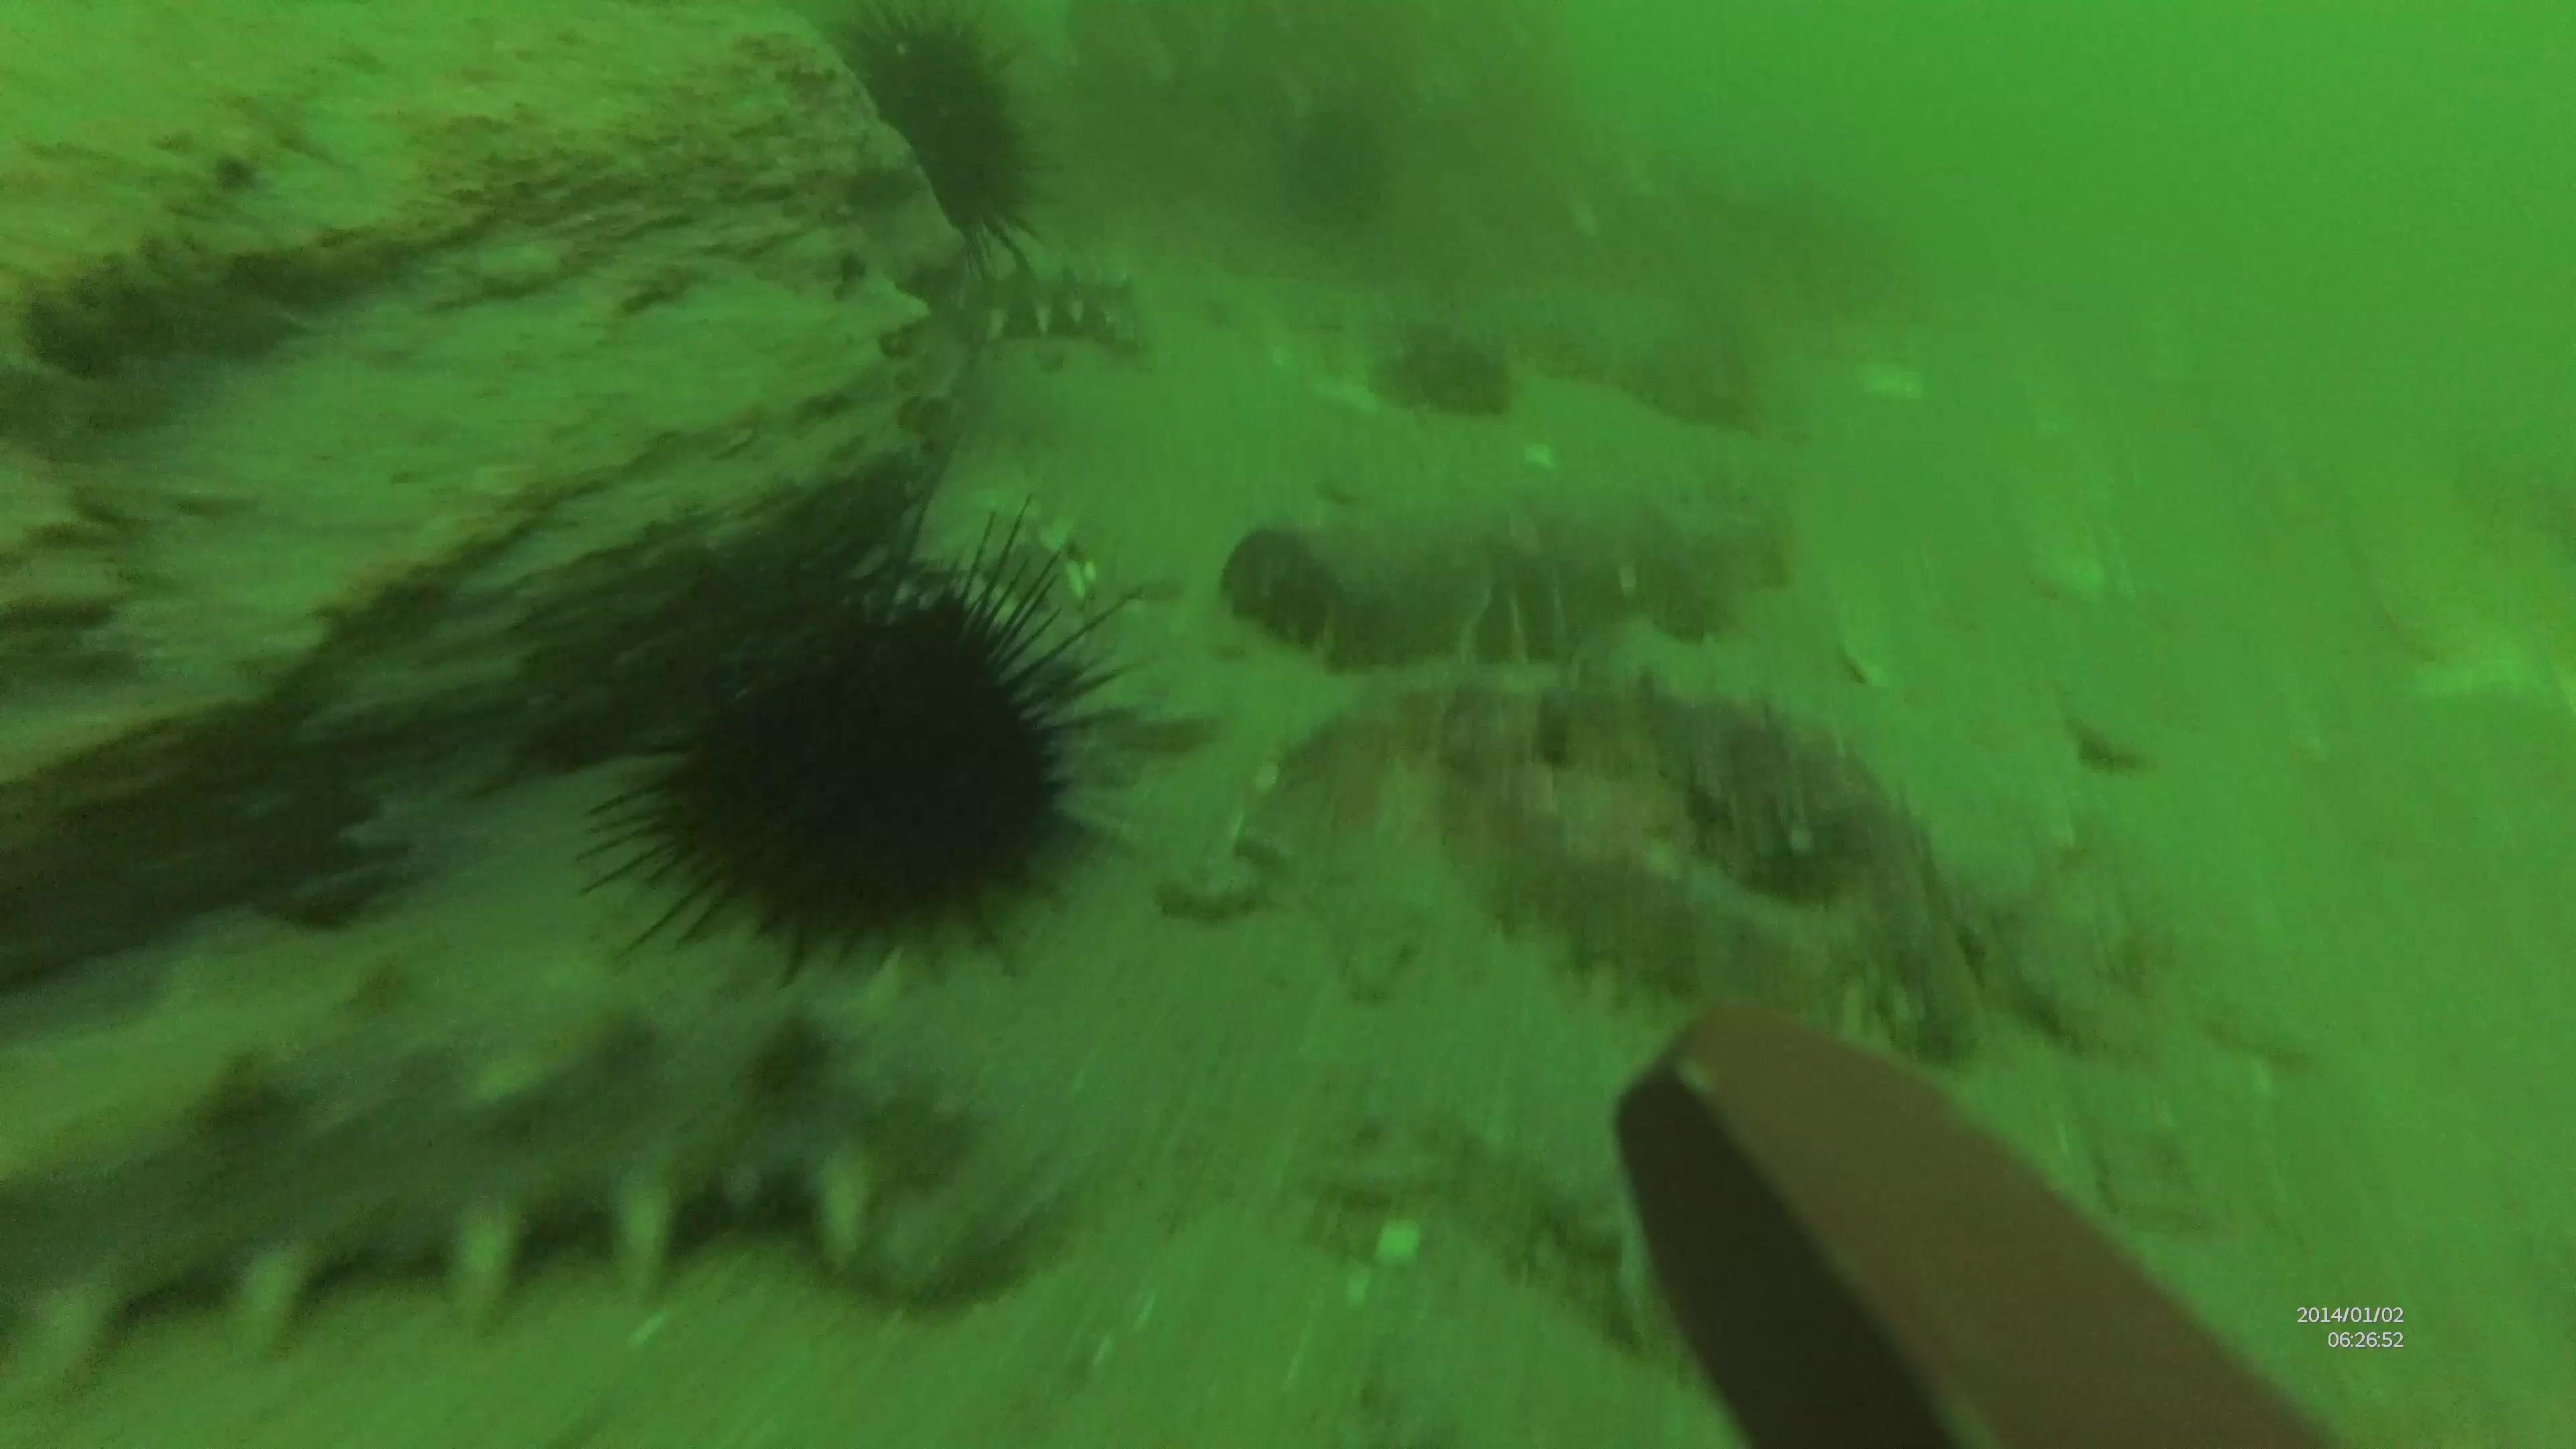echinus: (568, 499, 1152, 994), (833, 5, 1047, 239)
holothurian: (2, 991, 982, 1389), (977, 251, 1148, 359)
